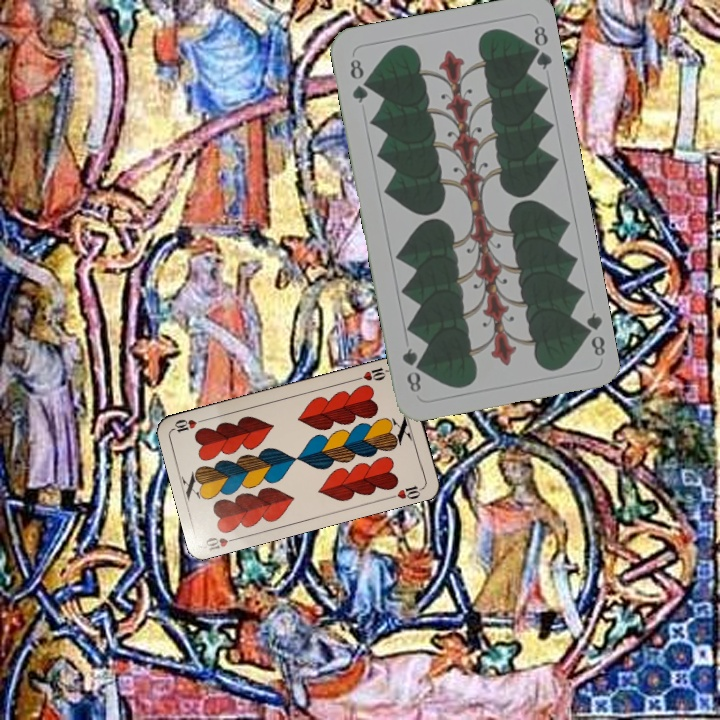G8: (576, 308, 608, 359), (345, 54, 371, 106)
H10: (202, 531, 242, 553), (352, 363, 393, 383)
